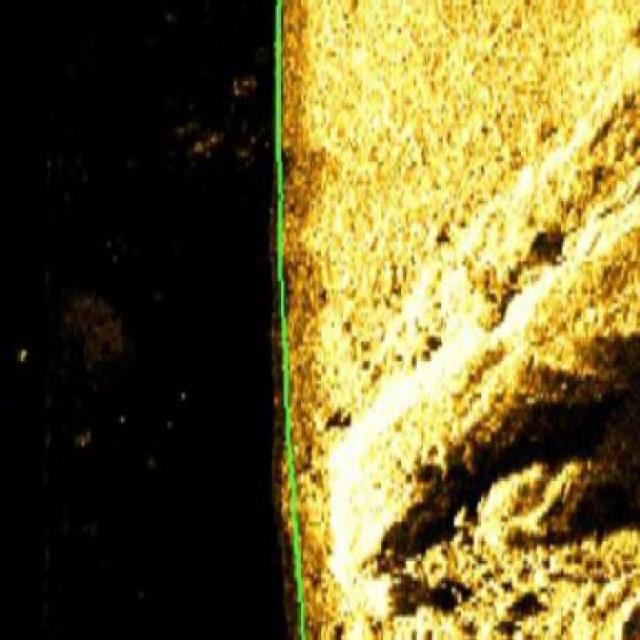bedrock group: (321, 67, 639, 639)
